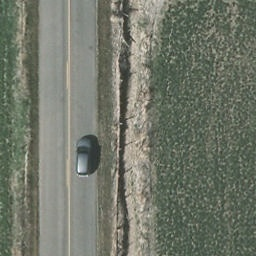car: (76, 138, 92, 178)
